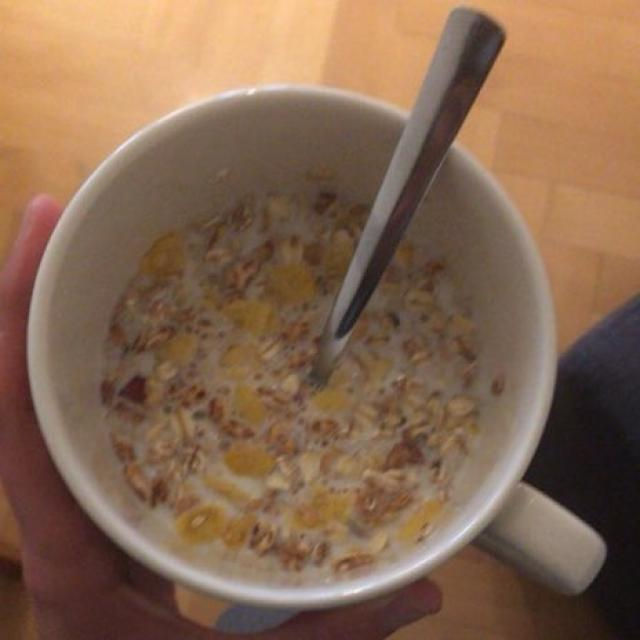muesli: (103, 192, 477, 570)
